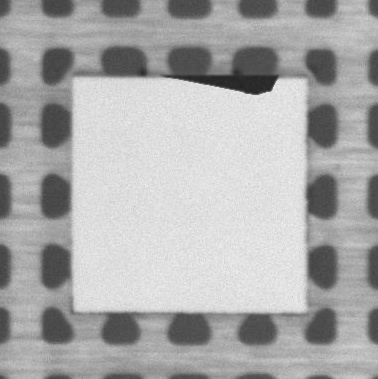DIE_BROKEN: (162, 69, 281, 96)
